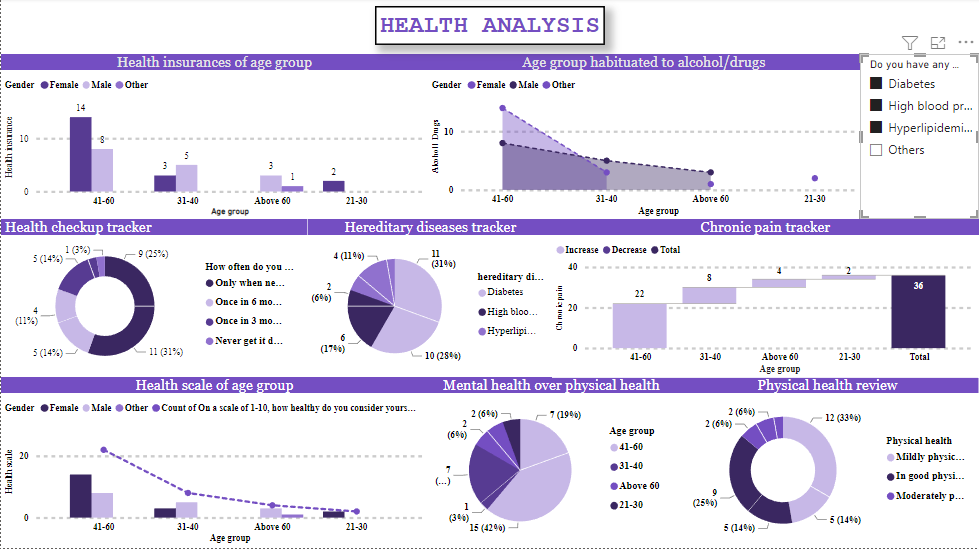

What the dashboard file says about the page in this screenshot:
{"tool":"powerbi","page":{"name":"Page 2","canvas":[1280,720],"ordinal":1},"visuals":[{"type":"areaChart","title":"Age group habituated to alcohol/drugs ","fields":{"Category":["Health Analysis.Age group"],"Y":["CountNonNull(Health Analysis.Are you habituated to alcohol/drugs ?)"],"Series":["Health Analysis.Gender"]},"box":[558.7,72.8,565.5,216.7],"z":0},{"type":"slicer","fields":{"Values":["Health Analysis.Do you have any hereditary conditions/ diseases ?"]},"box":[1124.2,72.8,155.8,216.7],"z":1000},{"type":"clusteredColumnChart","title":"Health insurances of age group","fields":{"Series":["Health Analysis.Gender"],"Category":["Health Analysis.Age group"],"Y":["CountNonNull(Health Analysis.Do you have a health insurance ? )"]},"box":[0,72.8,558.7,216.7],"z":2000},{"type":"pieChart","title":"Hereditary diseases tracker","fields":{"Series":["Health Analysis.Gender"],"Category":["Health Analysis.Do you have any hereditary conditions/ diseases ?"],"Y":["CountNonNull(Health Analysis.Gender)"]},"box":[401.3,289.5,320,206.6],"z":3000},{"type":"donutChart","title":"Health checkup tracker","fields":{"Series":["Health Analysis.Gender"],"Y":["CountNonNull(Health Analysis.Gender)"],"Category":["Health Analysis.How often do you get a health checkup ? "]},"box":[0,289.5,401.3,206.6],"z":4000},{"type":"lineClusteredColumnComboChart","title":"Health scale of age group","fields":{"Category":["Health Analysis.Age group"],"Series":["Health Analysis.Gender"],"Y":["CountNonNull(Health Analysis.On a scale of 1-10, how healthy do you consider yourself ?)"],"Y2":["CountNonNull(Health Analysis.On a scale of 1-10, how healthy do you consider yourself ?)"]},"box":[0,496.1,558.7,223.5],"z":5000},{"type":"donutChart","title":"Physical health review ","fields":{"Y":["CountNonNull(Health Analysis.Gender)"],"Series":["Health Analysis.Gender"],"Category":["Health Analysis.Would you say you are :"]},"box":[883.8,496.1,396.2,223.5],"z":6000},{"type":"pieChart","title":"Mental health over physical health","fields":{"Category":["Health Analysis.Age group"],"Y":["CountNonNull(Health Analysis.Does your mental well being has an affect on your physical health ?)"],"Series":["Health Analysis.Does your mental well being has an affect on your physical health ?"]},"box":[558.3,495.9,325.5,223],"z":7000},{"type":"waterfallChart","title":"Chronic pain tracker ","fields":{"Category":["Health Analysis.Age group"],"Y":["CountNonNull(Health Analysis.Do you experience any chronic pain ?)"]},"box":[721.3,289.5,558.7,208.3],"z":8000},{"type":"shape","box":[489,11.1,300.6,51.3],"z":9000}]}

Visuals, with their boxes in screenshot pixels (x1, y1, x2, y2), scaled from the page's 1280x720 canvas onto the 979x549 screenshot:
"Age group habituated to alcohol/drugs " areaChart: box=[427, 56, 860, 221]
slicer - Health Analysis.Do you have any hereditary conditions/ diseases ?: box=[860, 56, 978, 221]
"Health insurances of age group" clusteredColumnChart: box=[0, 56, 427, 221]
"Hereditary diseases tracker" pieChart: box=[307, 221, 552, 378]
"Health checkup tracker" donutChart: box=[0, 221, 307, 378]
"Health scale of age group" lineClusteredColumnComboChart: box=[0, 378, 427, 548]
"Physical health review " donutChart: box=[676, 378, 978, 548]
"Mental health over physical health" pieChart: box=[427, 378, 676, 548]
"Chronic pain tracker " waterfallChart: box=[552, 221, 978, 380]
shape: box=[374, 8, 604, 48]
